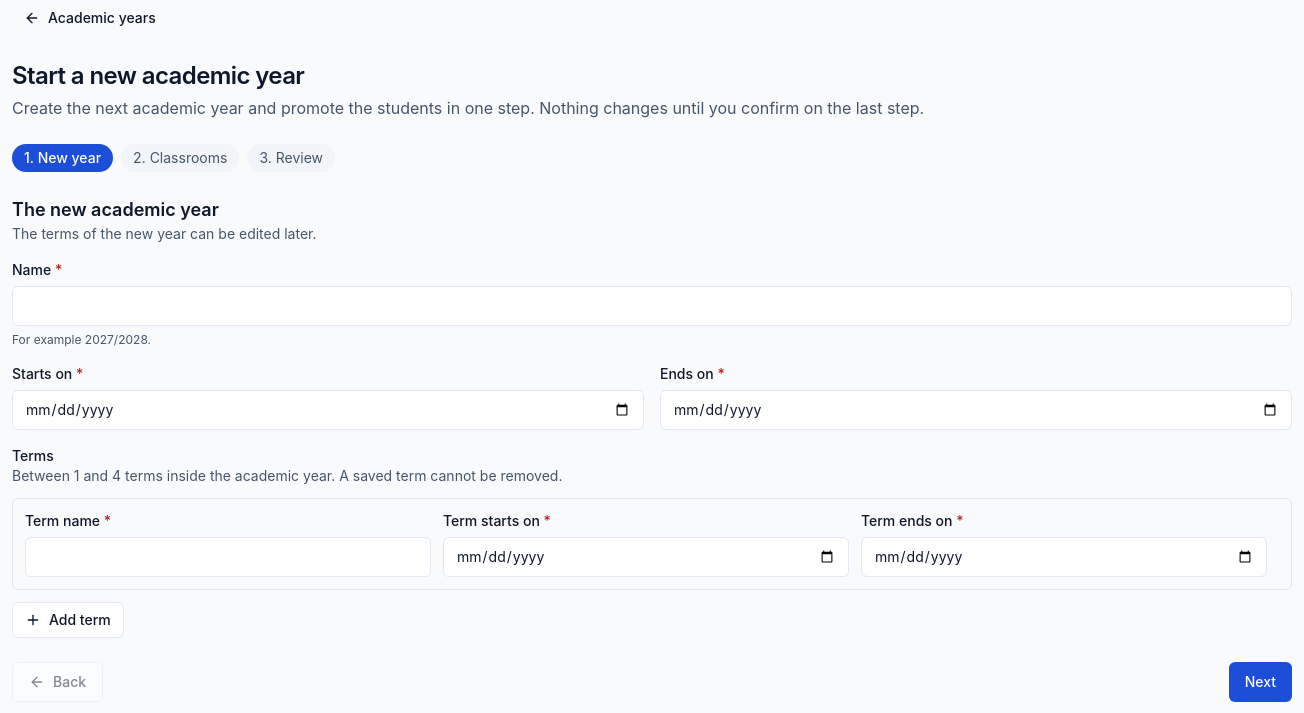
Test: RolloverPage › starts with the new year and does not move on while it is incomplete
The image size is (1304, 713).
Expected: the heading "The new academic year" is shown, [12,199,219,220]
Click the button "Next". click: (1260, 682)
box: [1229,662,1292,702]
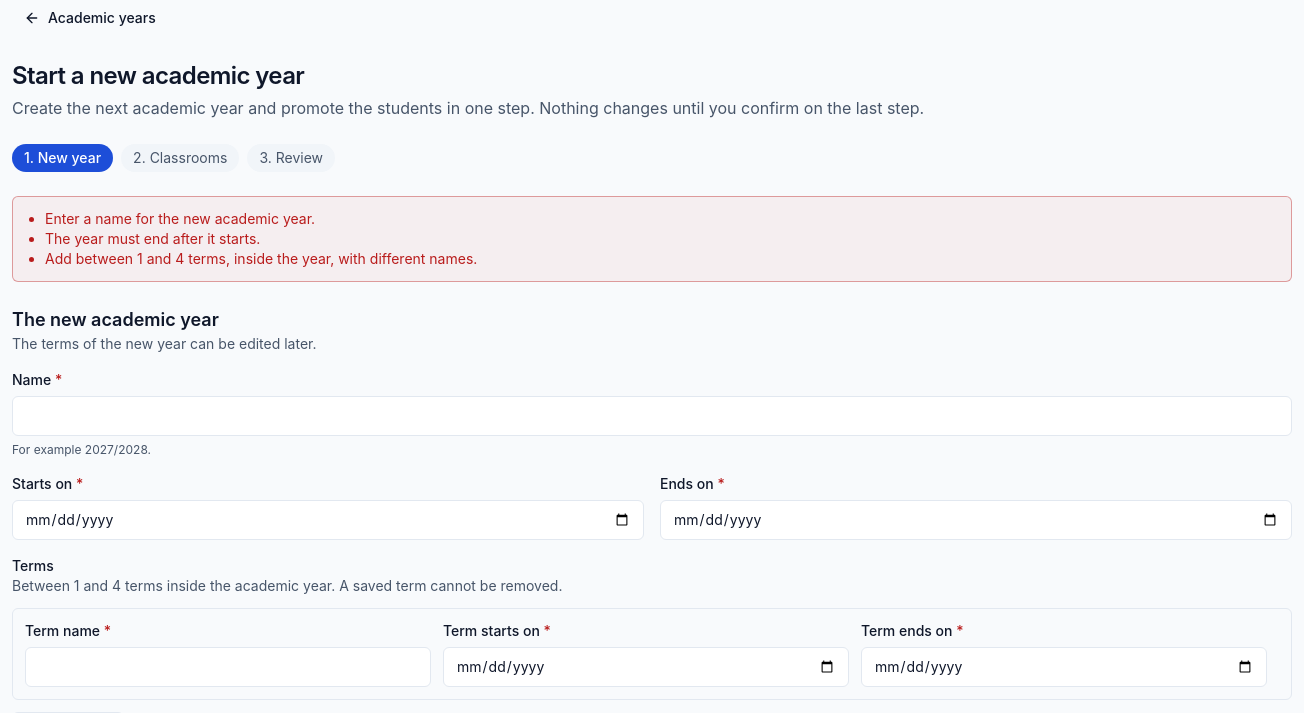
Expected: the message shows "Enter a name for the new academic year.", [45,210,315,227]
Expected: the message shows "The year must end after it starts.", [45,230,260,247]
Expected: the message shows "Add between 1 and 4 terms", [45,250,477,267]
